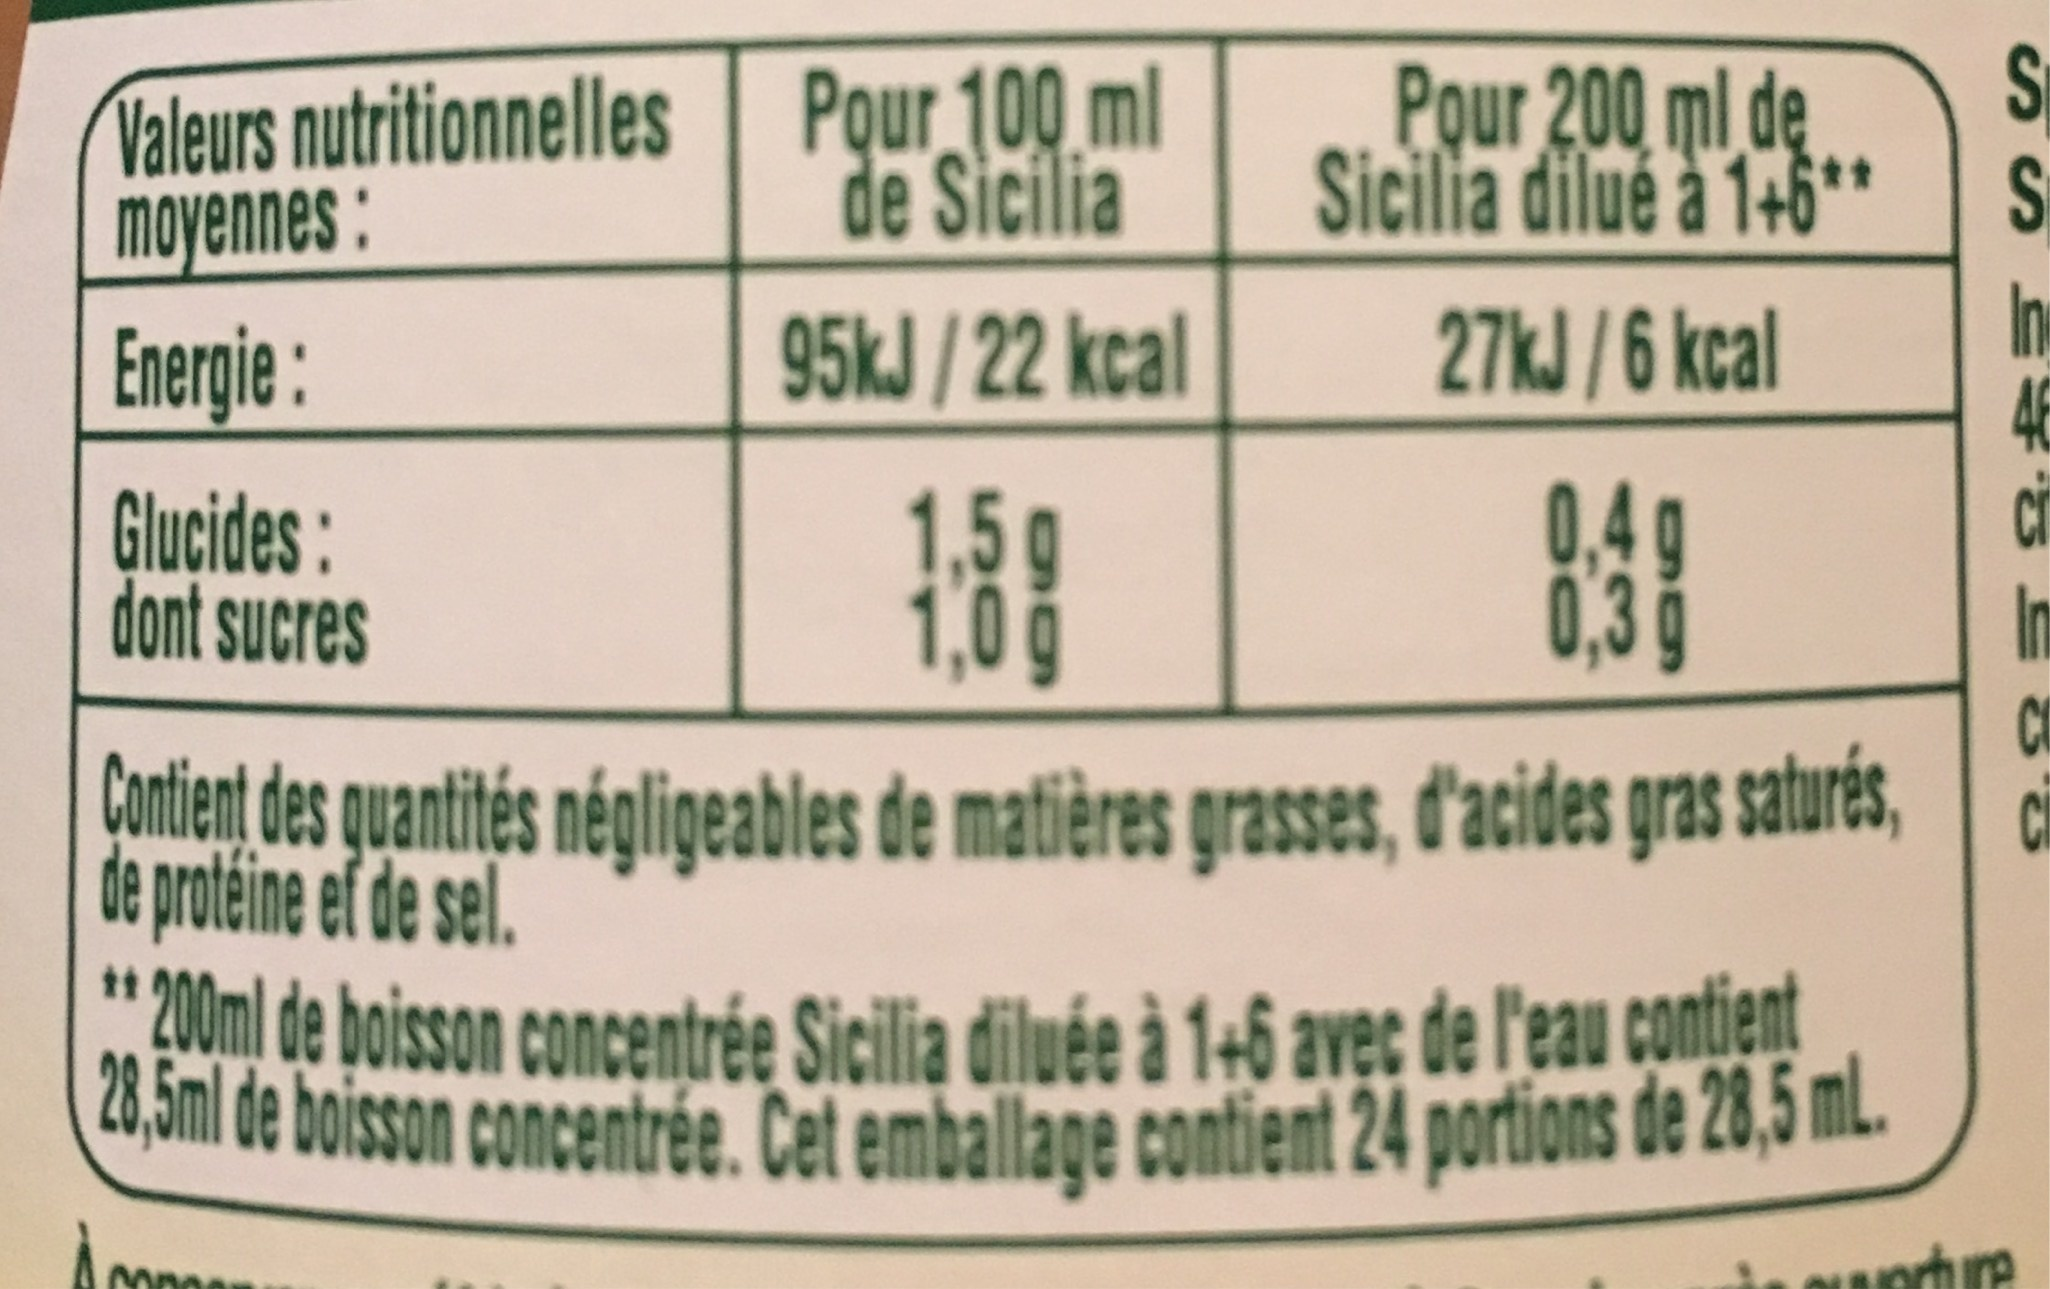column: (108, 56, 695, 682), (1303, 56, 1873, 676), (779, 62, 1191, 694)
table: (62, 39, 1988, 722)
